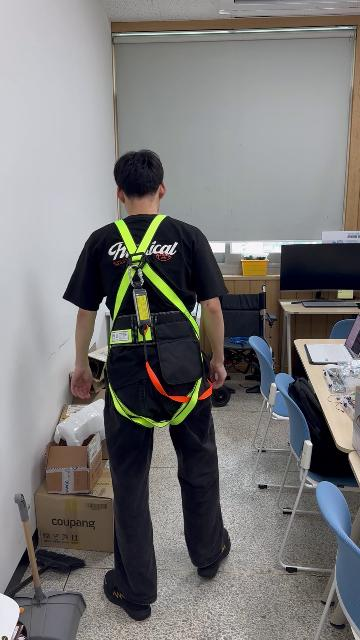helmet_not_worn: (113, 148, 167, 207)
shoe_worn: (103, 572, 153, 622), (196, 528, 230, 579)
vest_worn: (102, 218, 209, 424)
